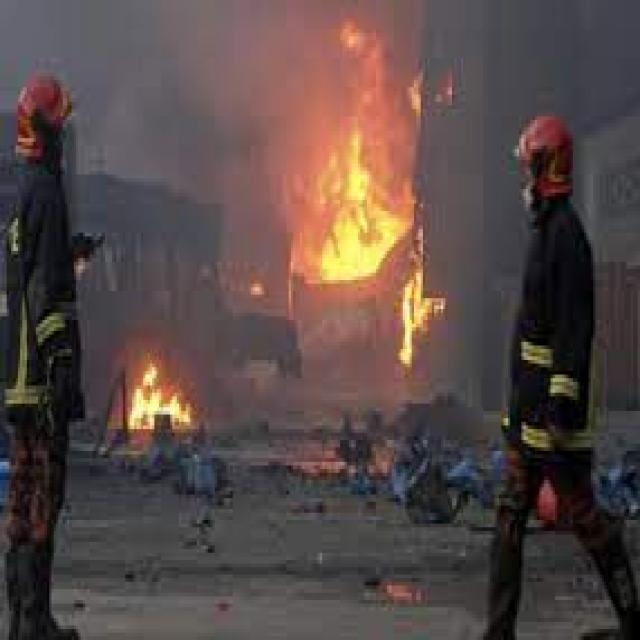fire: (282, 18, 425, 280), (123, 353, 199, 440), (392, 273, 445, 378)
